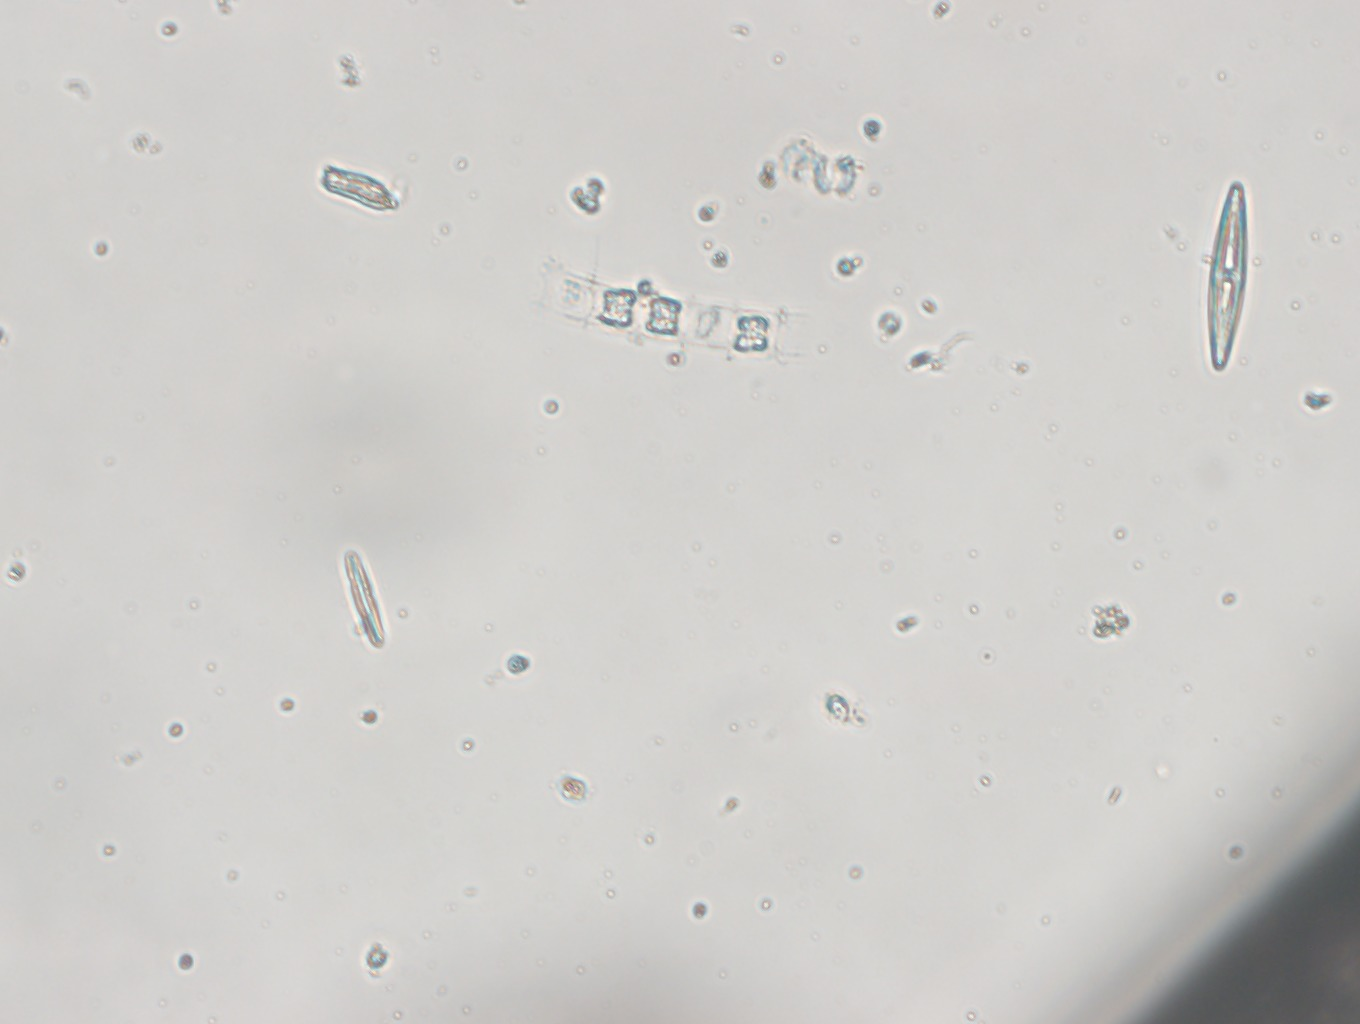chaetoceros: (532, 240, 813, 366)
navicula: (1204, 177, 1249, 374)
